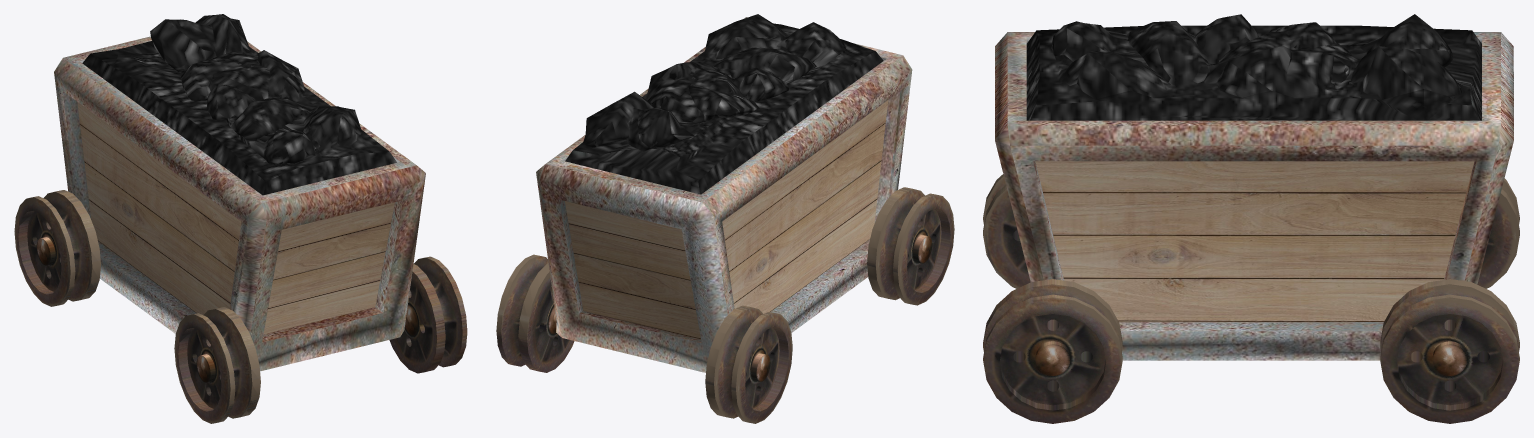
File: Minecart.fbx
3 views of the same model, side by side, from view 1: azimuth 30°, elevation 25°; view 2: azimuth 150°, elevation 25°; view 3: azimuth 270°, elevation 25° (orthographic). The views are drawn at different scales.
Visible parts, largest first — view 1: pCube8, pCylinder16, pCylinder17, pCylinder14; view 2: pCube8, pCylinder16, pCylinder17, pCylinder15; view 3: pCube8, pCylinder14, pCylinder15, pCylinder16, pCylinder17.
Part boxes in pixels (left/top/right/bottom): pCube8: left=54, top=14, right=425, bottom=371; pCylinder16: left=174, top=307, right=260, bottom=423; pCylinder17: left=14, top=190, right=100, bottom=306; pCylinder14: left=389, top=256, right=467, bottom=373; pCube8: left=536, top=14, right=912, bottom=372; pCylinder16: left=867, top=187, right=954, bottom=305; pCylinder17: left=705, top=305, right=792, bottom=423; pCylinder15: left=496, top=254, right=574, bottom=372; pCube8: left=995, top=14, right=1513, bottom=360; pCylinder14: left=983, top=279, right=1122, bottom=423; pCylinder15: left=1380, top=279, right=1519, bottom=423; pCylinder16: left=983, top=174, right=1030, bottom=288; pCylinder17: left=1477, top=178, right=1519, bottom=288.
Bounding box in the file's own units: 4.97 × 5.25 × 7.69.
5 materials, 4 textured.
